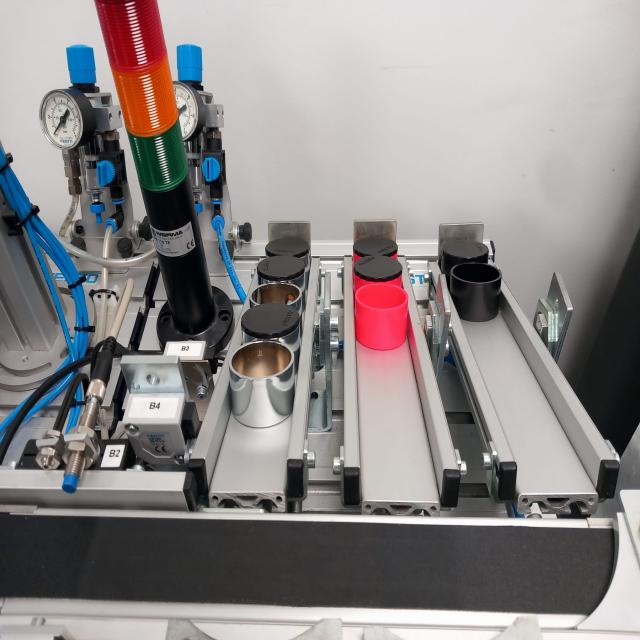NoLid: (228, 339, 296, 426), (354, 287, 417, 351), (451, 260, 505, 321)
Workpiece: (262, 231, 314, 268), (247, 307, 300, 342), (354, 258, 406, 286), (443, 234, 494, 261), (256, 256, 306, 281), (353, 231, 399, 256)
